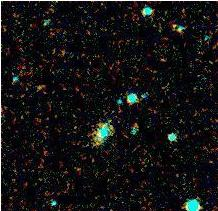star: (160, 10, 190, 40)
